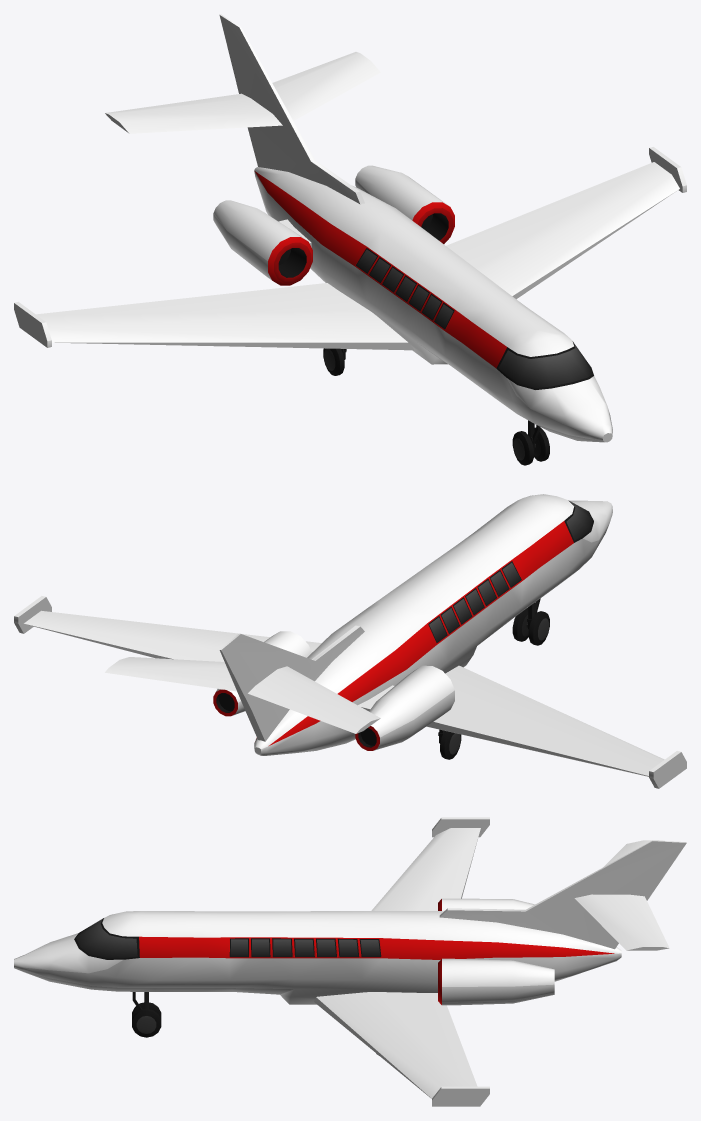
File: FeiJI002.fbx
3 renders of one model, top to bottom at view 1: azimuth 30°, elevation 25°; view 2: azimuth 150°, elevation 25°; view 3: azimuth 270°, elevation 25°, orthographic. The views are drawn at different scales.
Parts seen in each view (by area): view 1: FeiJI002; view 2: FeiJI002; view 3: FeiJI002.
Boxes of the visible parts, bbox=[...] form: FeiJI002: bbox=[14, 14, 686, 465]; FeiJI002: bbox=[14, 494, 686, 788]; FeiJI002: bbox=[14, 817, 686, 1106].
Bounding box in the file's own units: 1449 × 480 × 1520.
